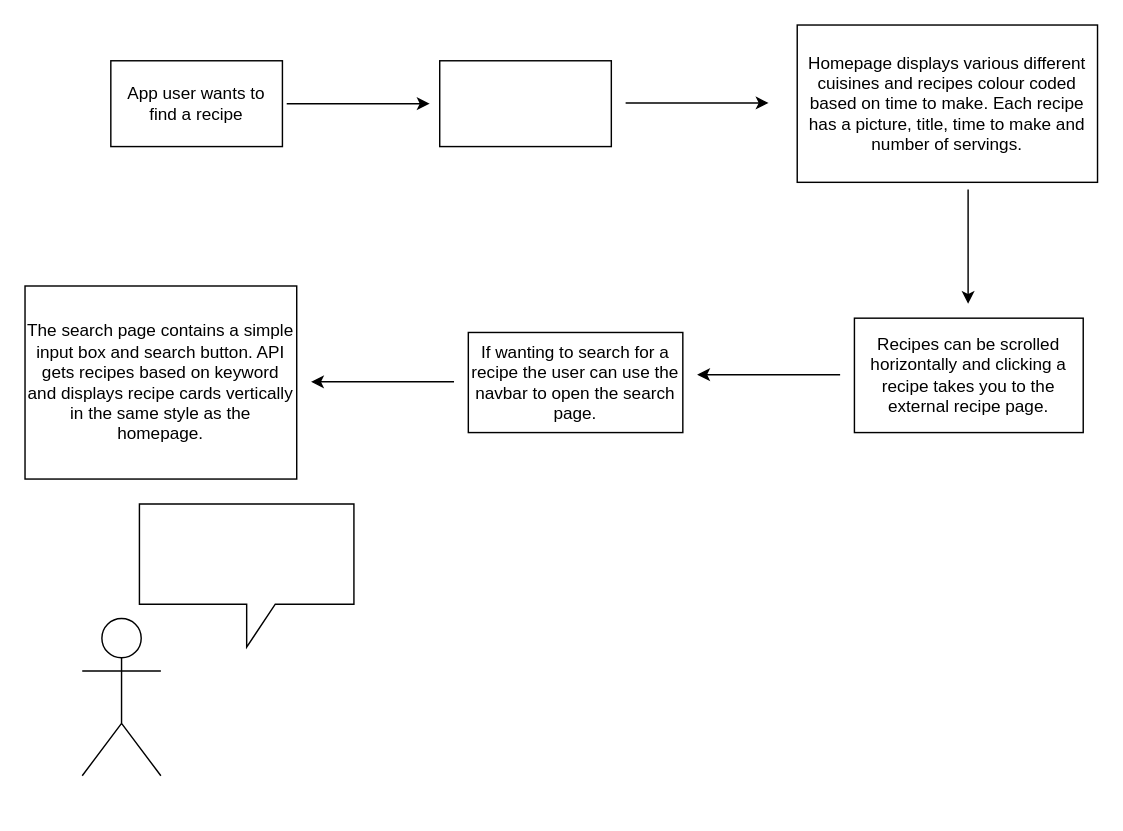
Some shapes in this 1123 by 831 pixel diagram are drawn without their labels. Here are the shapes that lost their labels. From the top down, the centre of each, then its label:
the point at 524,103: Open app
the point at 246,575: User must not be indecisive as they will reach the maximum API request limit.
the point at 121,696: Actor
